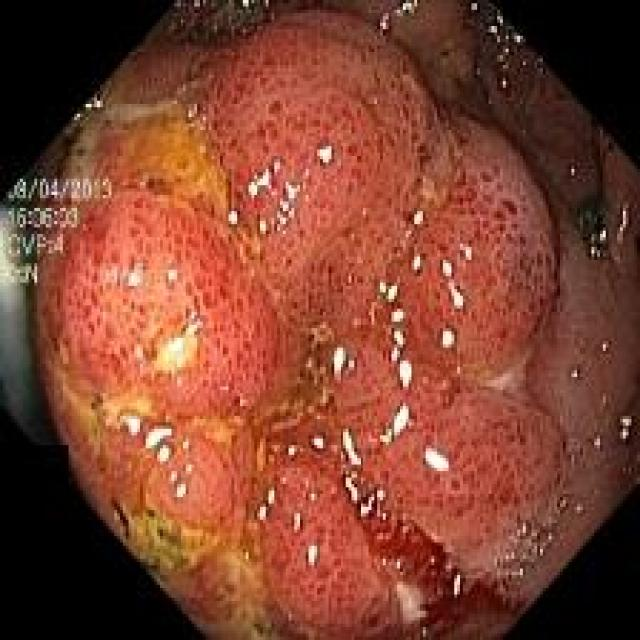Polyps: (38, 13, 571, 637)
